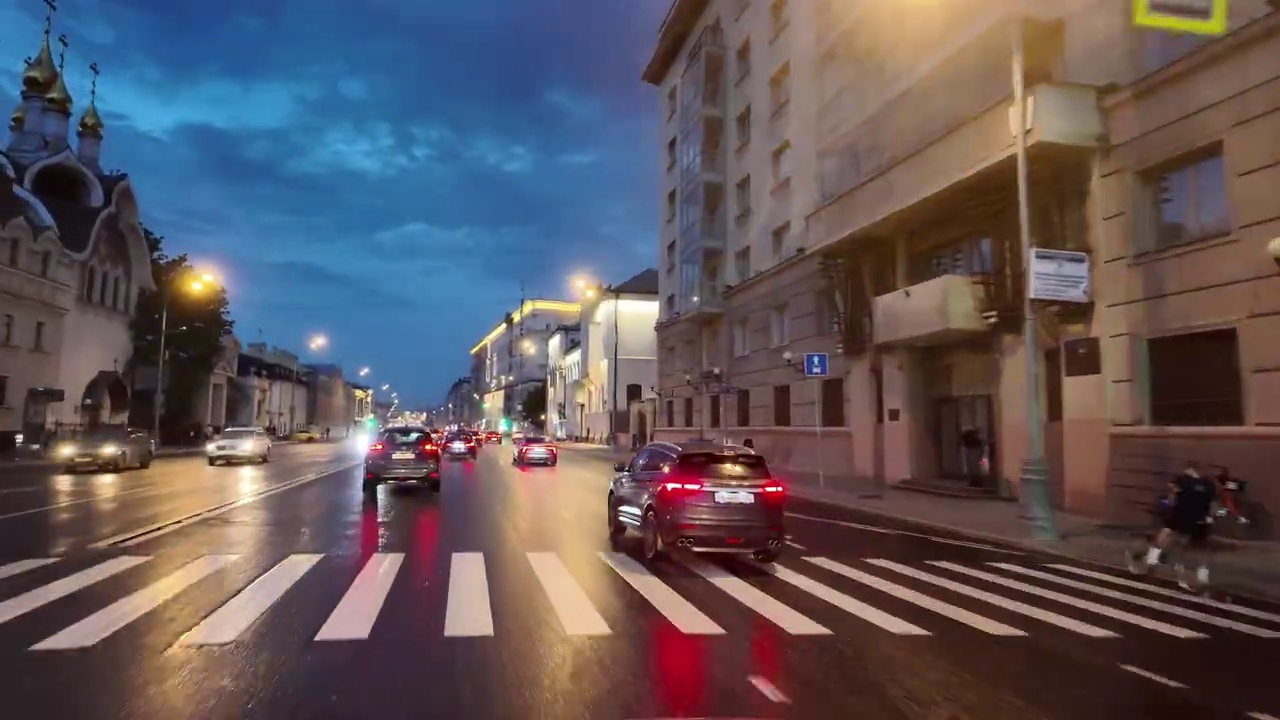acesa: (177, 268, 221, 305), (572, 274, 602, 309), (307, 330, 329, 353)
